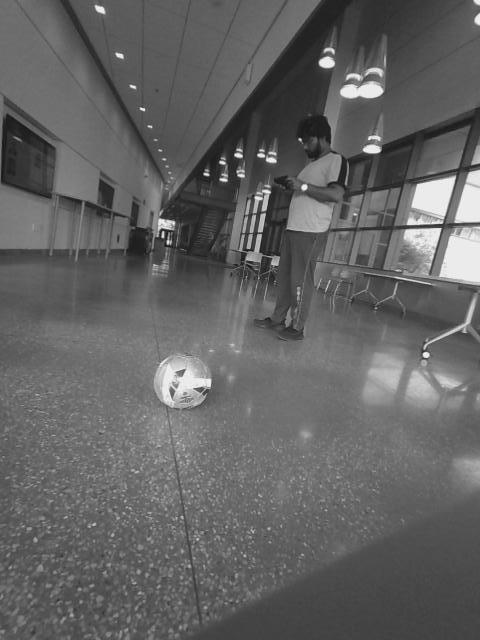ball: (152, 351, 215, 411)
